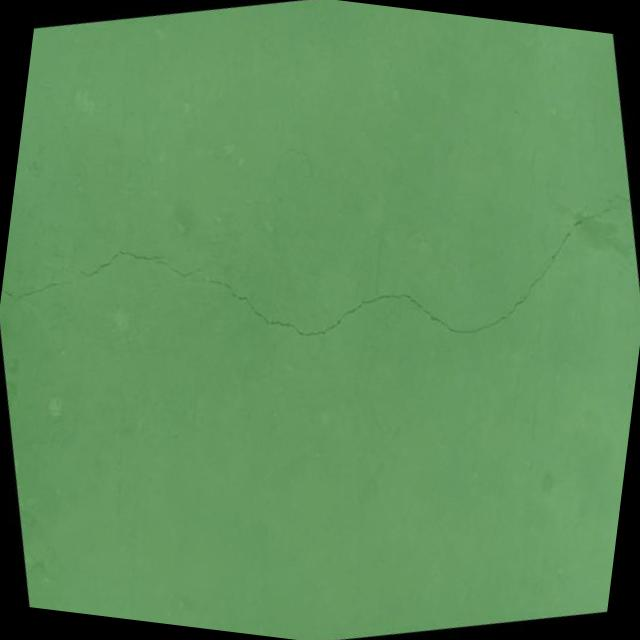crack: (174, 152, 640, 415), (62, 226, 202, 296), (0, 269, 73, 312), (152, 250, 206, 286), (600, 190, 630, 208)
